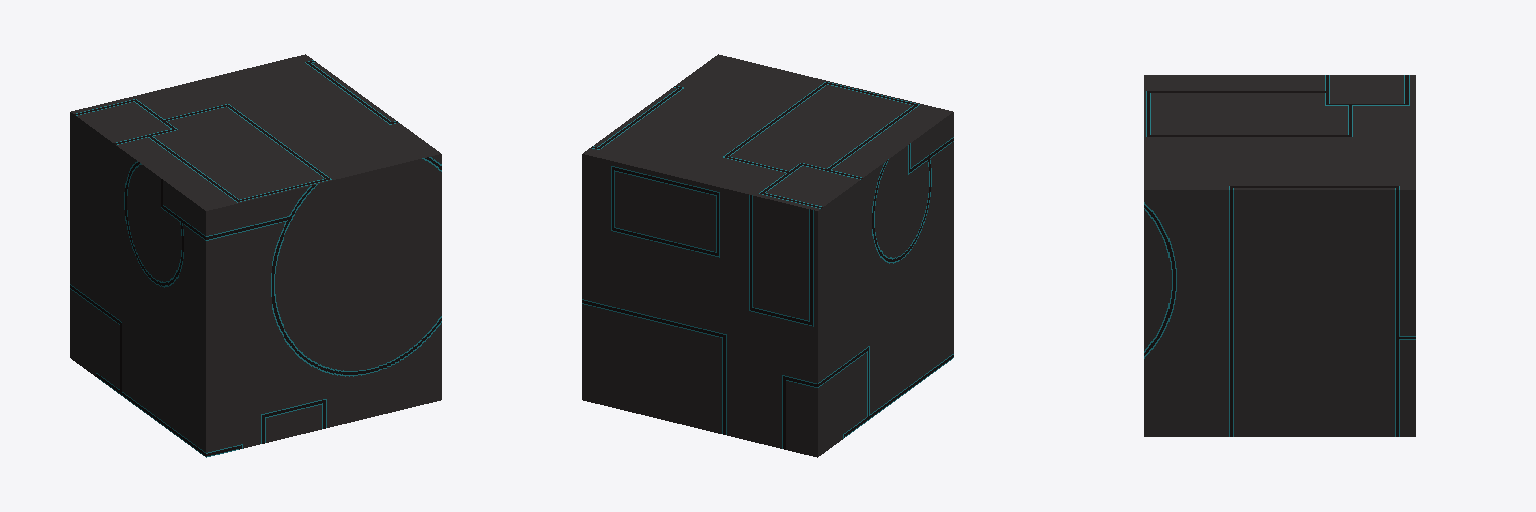
3 views of the same model, side by side, from view 1: azimuth 30°, elevation 25°; view 2: azimuth 150°, elevation 25°; view 3: azimuth 270°, elevation 25° (orthographic).
Visible parts, largest first — view 1: 立方体; view 2: 立方体; view 3: 立方体.
Boxes of the visible parts, x1,y1,x2,y2 form: 立方体: [70, 54, 441, 457]; 立方体: [582, 54, 953, 457]; 立方体: [1144, 75, 1415, 436].
Size of the model in its own units: 400 by 400 by 400.
1 materials, 1 textured.